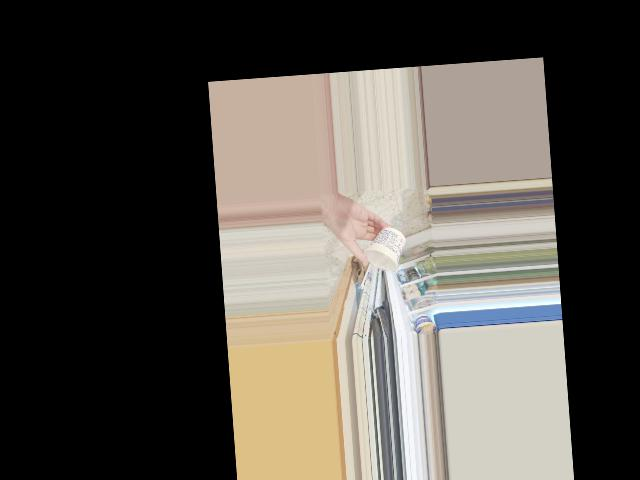cotage: (365, 230, 406, 273)
